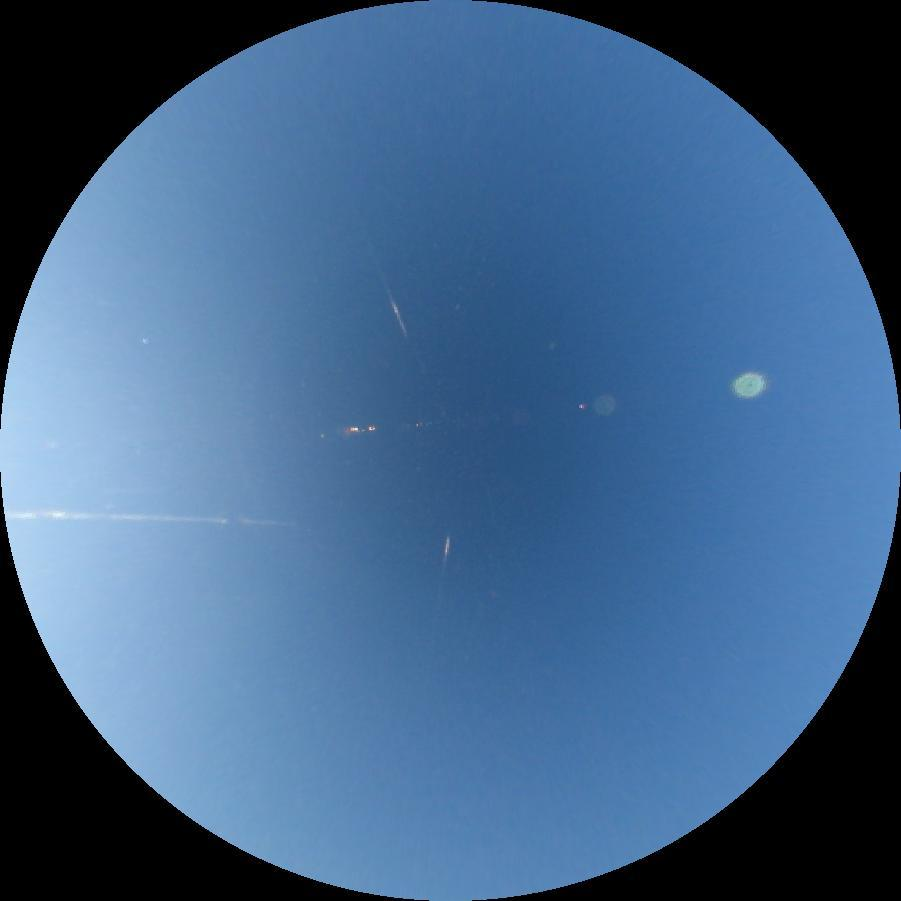parasite: (6, 509, 302, 531), (383, 286, 430, 380), (438, 527, 452, 601)
